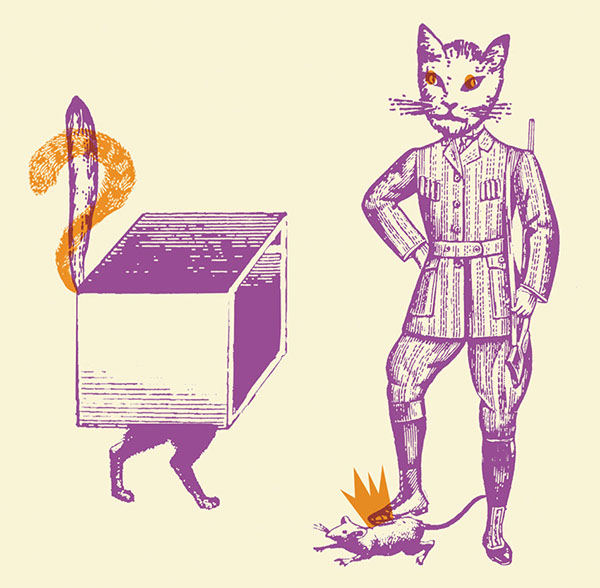cat: (353, 19, 564, 558)
